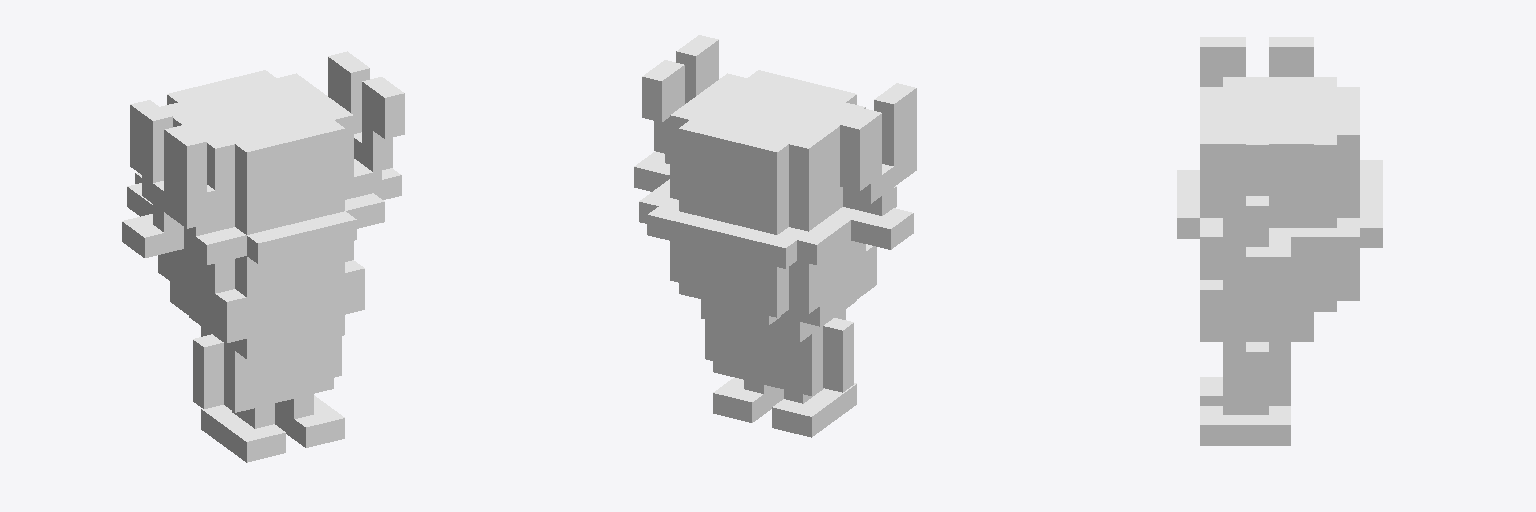
File: qibao1.obj
The picture shows the model from 3 angles: view 1: azimuth 30°, elevation 25°; view 2: azimuth 150°, elevation 25°; view 3: azimuth 270°, elevation 25°; orthographic projection.
Bounding box in the file's own units: 13 × 16 × 9.